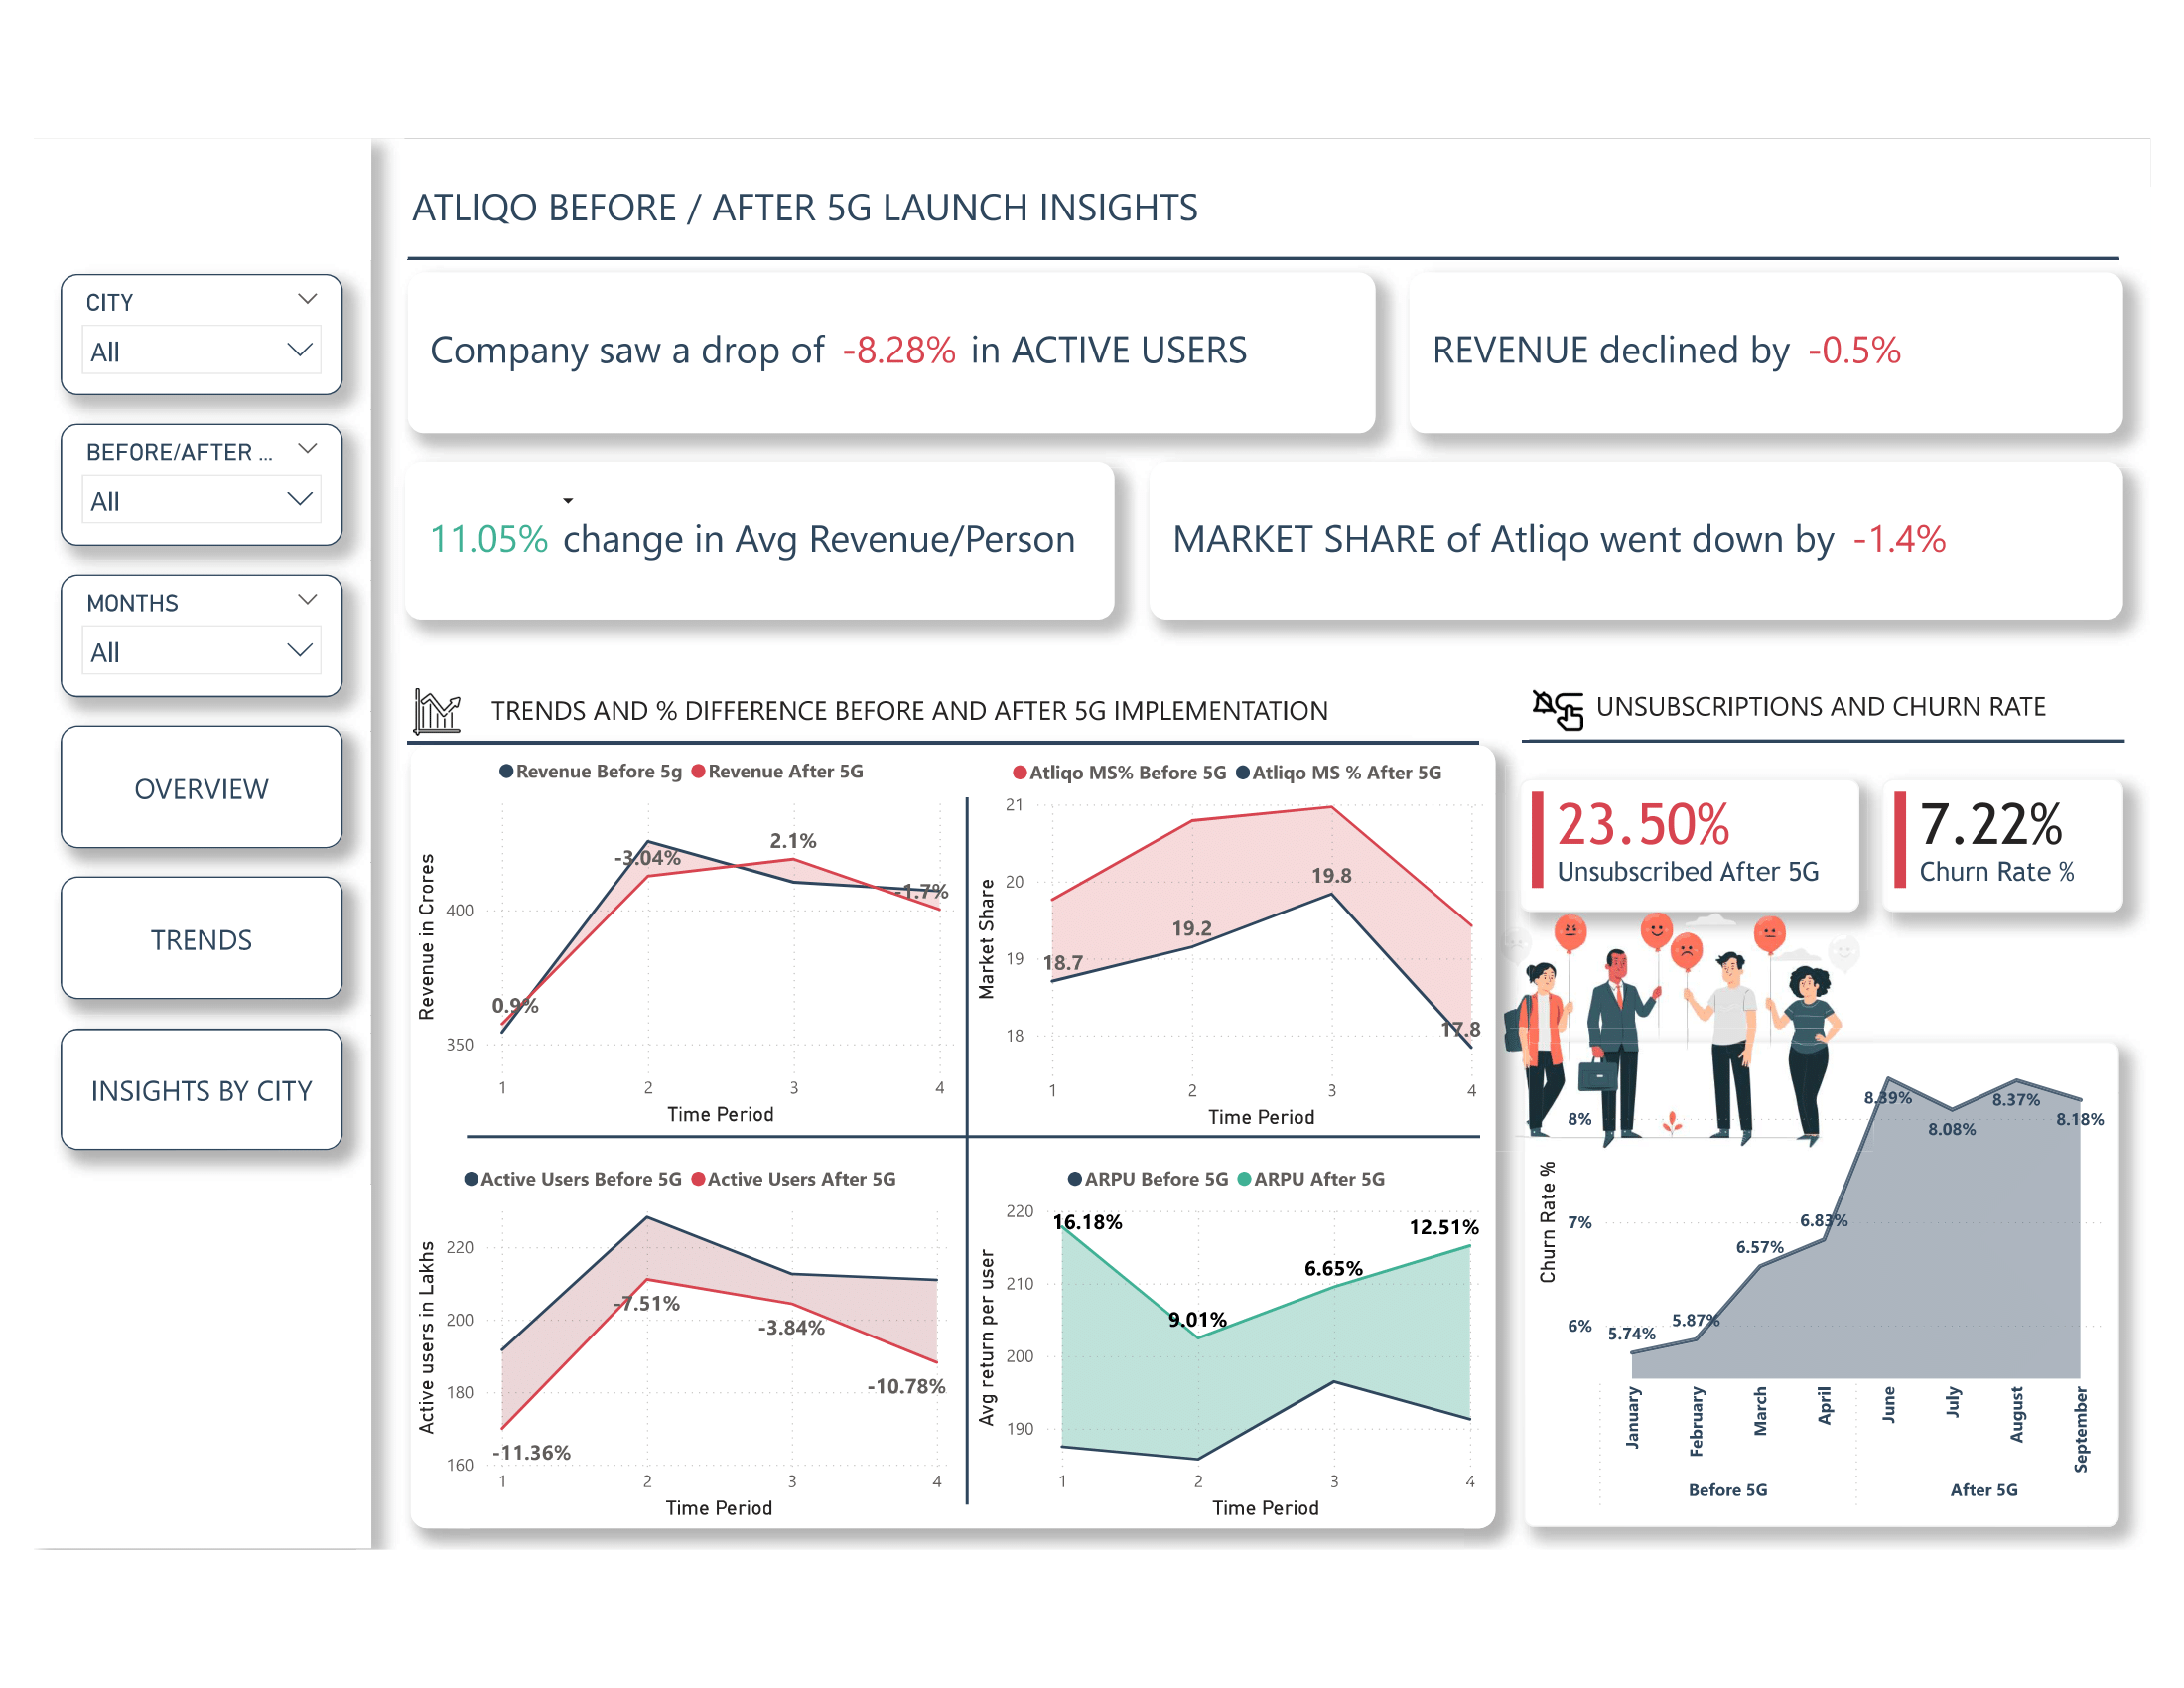

The dashboard page shown, as its layout file describes it:
{"tool":"powerbi","page":{"name":"OVERVIEW","canvas":[1500,1000],"ordinal":0},"visuals":[{"type":"shape","box":[0,0,238.8,998.8],"z":0},{"type":"areaChart","fields":{"Y":["Key Measures.Churn Rate %"],"Category":["dim_date.before/after_5g","dim_date.date.Variation.Date Hierarchy.Month"]},"box":[1056.2,640.3,421.4,344.1],"z":1000},{"type":"lineChart","fields":{"Category":["dim_date.time_period"],"Y":["Key Measures.Active Users Before 5G","Key Measures.Active Users After 5G"]},"box":[264.7,716.5,389.9,267.6],"z":2000},{"type":"lineChart","fields":{"Category":["dim_date.time_period"],"Y":["Key Measures.Atliqo MS% Before 5G","Key Measures.Atliqo MS % After 5G"]},"box":[662.4,428.7,371.7,277.9],"z":3000},{"type":"lineChart","fields":{"Category":["dim_date.time_period"],"Y":["Key Measures.ARPU Before 5G","Key Measures.ARPU After 5G"]},"box":[661.9,716.5,371.2,267.6],"z":4000},{"type":"textbox","box":[263.2,23.8,631.8,47.6],"z":5000},{"type":"shape","box":[264.9,73,1212.6,23.8],"z":6000},{"type":"shape","box":[265.3,410.4,758.8,35.4],"z":7000},{"type":"shape","box":[1055,409.2,426.7,35.8],"z":8000},{"type":"multiRowCard","fields":{"Values":["Key Measures.% Change in Unsubscribers"]},"box":[1052.9,453.8,241.4,93.9],"z":9000},{"type":"multiRowCard","fields":{"Values":["Key Measures.Churn Rate %"]},"box":[1310,453.8,171.2,93.8],"z":10000},{"type":"tableEx","fields":{"Values":["Key Measures.Prefix Active Users","Key Measures.% Change in Active Users","Key Measures.Suffix Active Users"]},"box":[264.9,95.1,686.1,113.8],"z":11000},{"type":"lineChart","fields":{"Y":["Key Measures.Revenue Before 5g","Key Measures.Revenue After 5G"],"Category":["dim_date.time_period"]},"box":[265,428.3,391.7,276.7],"z":12000},{"type":"tableEx","fields":{"Values":["Key Measures.Prefix Revenue","Key Measures.% Change in Revenue"]},"box":[974.9,95.1,506.1,113.8],"z":13000},{"type":"tableEx","fields":{"Values":["Key Measures.% Change in ARPU","Key Measures.Suffix ARPU"]},"box":[263.2,229.3,502.7,112.1],"z":14000},{"type":"tableEx","fields":{"Values":["Key Measures.Prefix Market Share","Key Measures.% Change in Atlico MS"]},"box":[791.4,229.3,689.5,112.1],"z":15000},{"type":"textbox","box":[264.9,387.2,711.6,37.4],"z":16000},{"type":"textbox","box":[1056.4,383.8,421.2,40.8],"z":17000},{"type":"image","box":[264.3,382.1,42.9,47.6],"z":19000},{"type":"image","box":[1054.7,382.6,50,45.3],"z":20000},{"type":"shape","box":[307.3,690,717.6,35],"z":21000},{"type":"shape","box":[640.3,467.4,42.3,500.5],"z":22000},{"type":"slicer","fields":{"Values":["dim_cities.city_name"]},"box":[18.9,95.7,200.6,86.5],"z":23000},{"type":"slicer","fields":{"Values":["dim_date.before/after_5g"]},"box":[18.9,202.5,200.6,86.5],"z":24000},{"type":"slicer","fields":{"Values":["dim_date.date.Variation.Date Hierarchy.Month"]},"box":[19,309.2,200.4,86.6],"z":25000},{"type":"shape","box":[19.3,416.1,199.7,86.9],"z":26000},{"type":"shape","box":[19.3,523.4,199.7,86.9],"z":27000},{"type":"shape","box":[19.3,630.6,199.7,86.9],"z":28000},{"type":"shape","box":[259.9,0,735.4,985.1],"z":29000},{"type":"shape","box":[266.6,429.7,1214.3,555.4],"z":30000}]}

Visuals, with their boxes on the page's 1500x1000 design canvas (x1, y1, x2, y2). These are canvas units, not pixel positions in the 2184x1688 screenshot, which may show the page scaled, cropped or inside an application window:
shape: [0,0,239,999]
areaChart - Key Measures.Churn Rate % x dim_date.before/after_5g: [1056,640,1478,984]
lineChart - dim_date.time_period x Key Measures.Active Users Before 5G: [265,716,655,984]
lineChart - dim_date.time_period x Key Measures.Atliqo MS% Before 5G: [662,429,1034,707]
lineChart - dim_date.time_period x Key Measures.ARPU Before 5G: [662,716,1033,984]
textbox: [263,24,895,71]
shape: [265,73,1478,97]
shape: [265,410,1024,446]
shape: [1055,409,1482,445]
multiRowCard - Key Measures.% Change in Unsubscribers: [1053,454,1294,548]
multiRowCard - Key Measures.Churn Rate %: [1310,454,1481,548]
tableEx - Key Measures.Prefix Active Users x Key Measures.% Change in Active Users: [265,95,951,209]
lineChart - Key Measures.Revenue Before 5g x Key Measures.Revenue After 5G: [265,428,657,705]
tableEx - Key Measures.Prefix Revenue x Key Measures.% Change in Revenue: [975,95,1481,209]
tableEx - Key Measures.% Change in ARPU x Key Measures.Suffix ARPU: [263,229,766,341]
tableEx - Key Measures.Prefix Market Share x Key Measures.% Change in Atlico MS: [791,229,1481,341]
textbox: [265,387,976,425]
textbox: [1056,384,1478,425]
image: [264,382,307,430]
image: [1055,383,1105,428]
shape: [307,690,1025,725]
shape: [640,467,683,968]
slicer - dim_cities.city_name: [19,96,220,182]
slicer - dim_date.before/after_5g: [19,202,220,289]
slicer - dim_date.date.Variation.Date Hierarchy.Month: [19,309,219,396]
shape: [19,416,219,503]
shape: [19,523,219,610]
shape: [19,631,219,718]
shape: [260,0,995,985]
shape: [267,430,1481,985]
